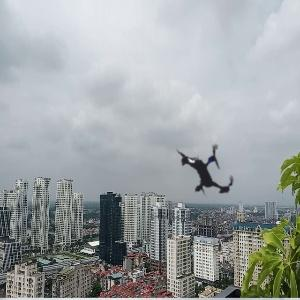drone: (158, 121, 259, 222)
